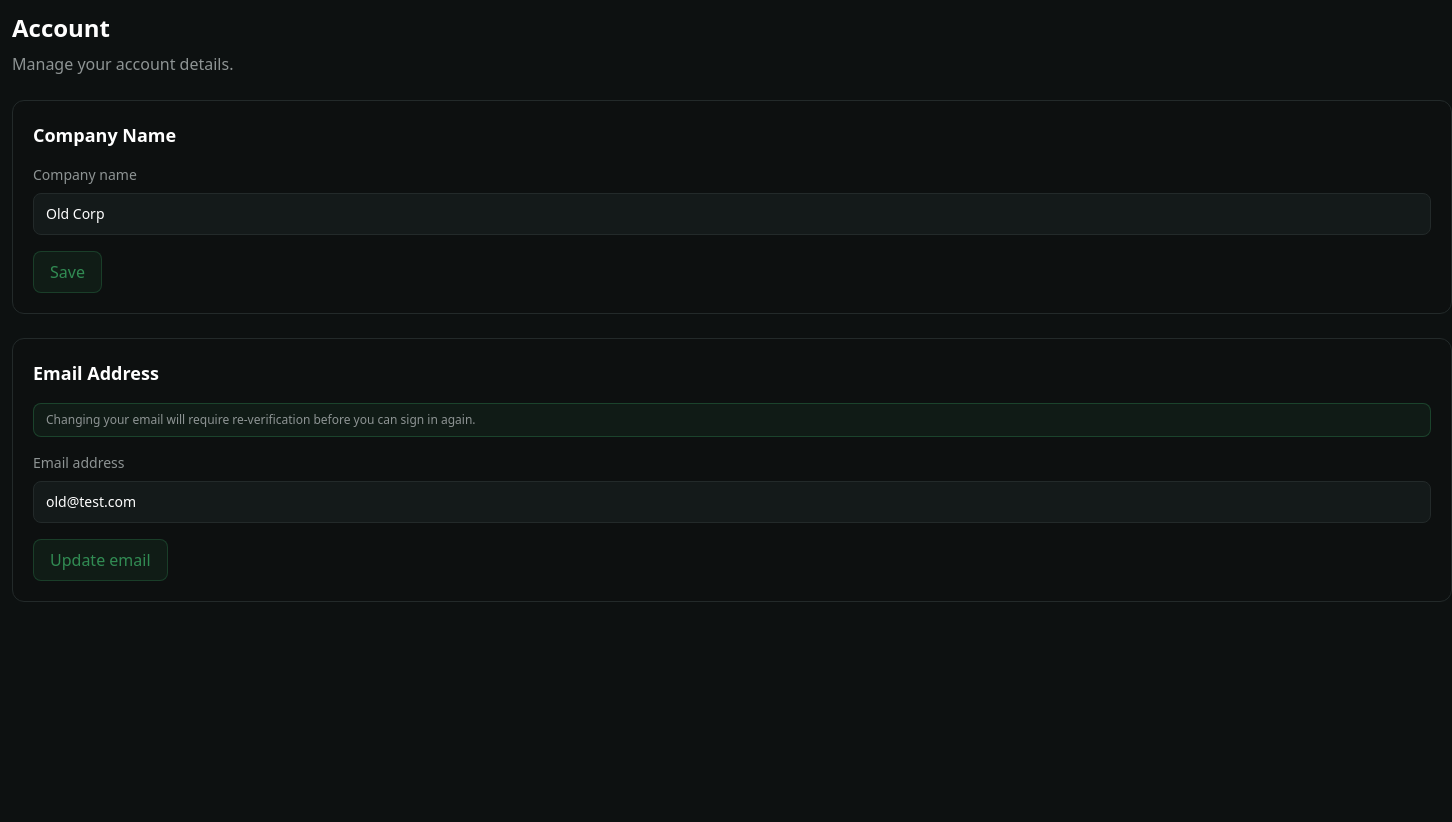
Test: AccountPage › saves company name on submit
The width and height of the screenshot is (1452, 822).
Replace the text in the field showing "Old Corp" with "New Corp": (732, 214) top-left (33, 193), bottom-right (1431, 235)
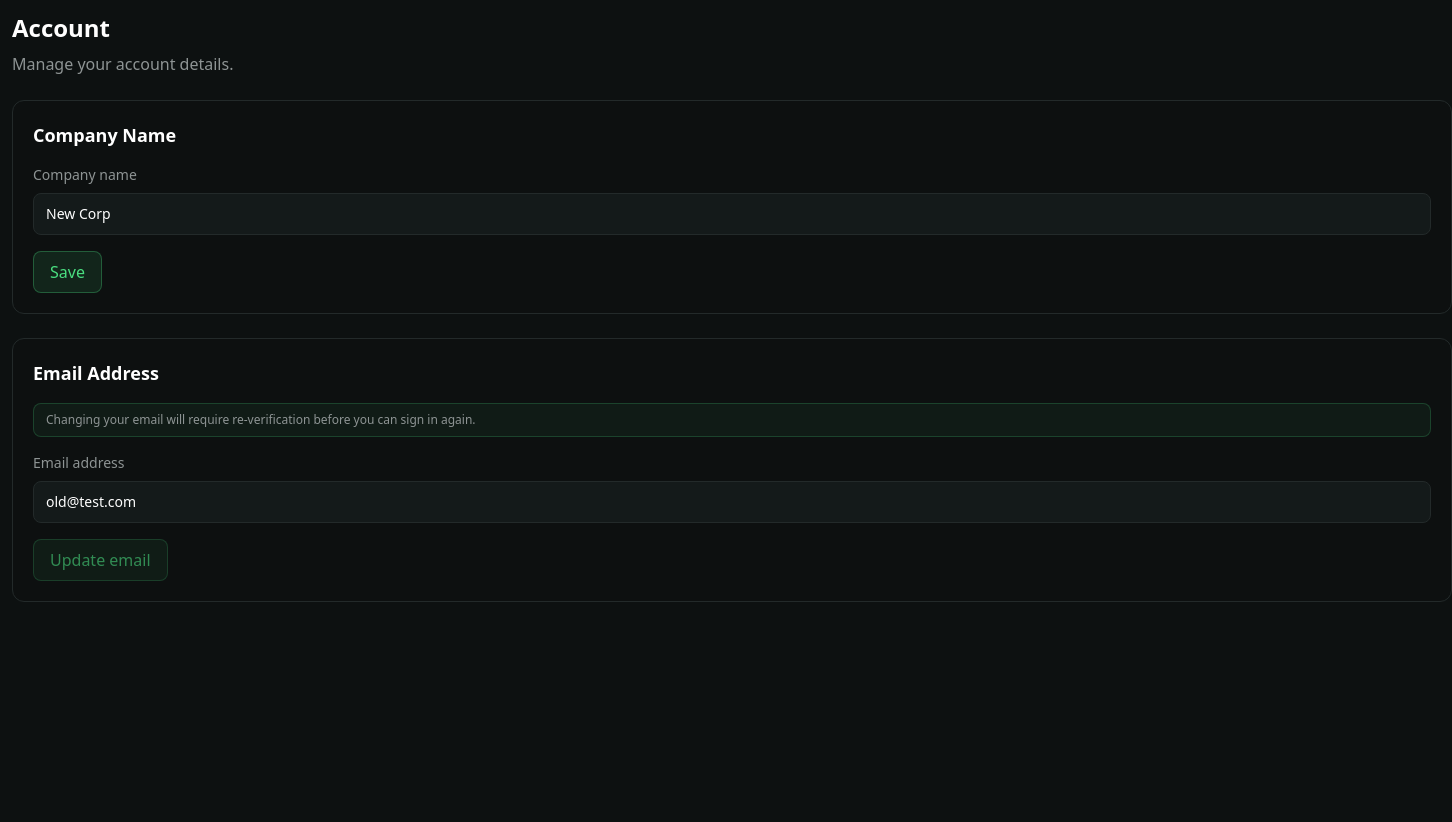
Click the button "Save": (67, 272) top-left (33, 251), bottom-right (102, 293)
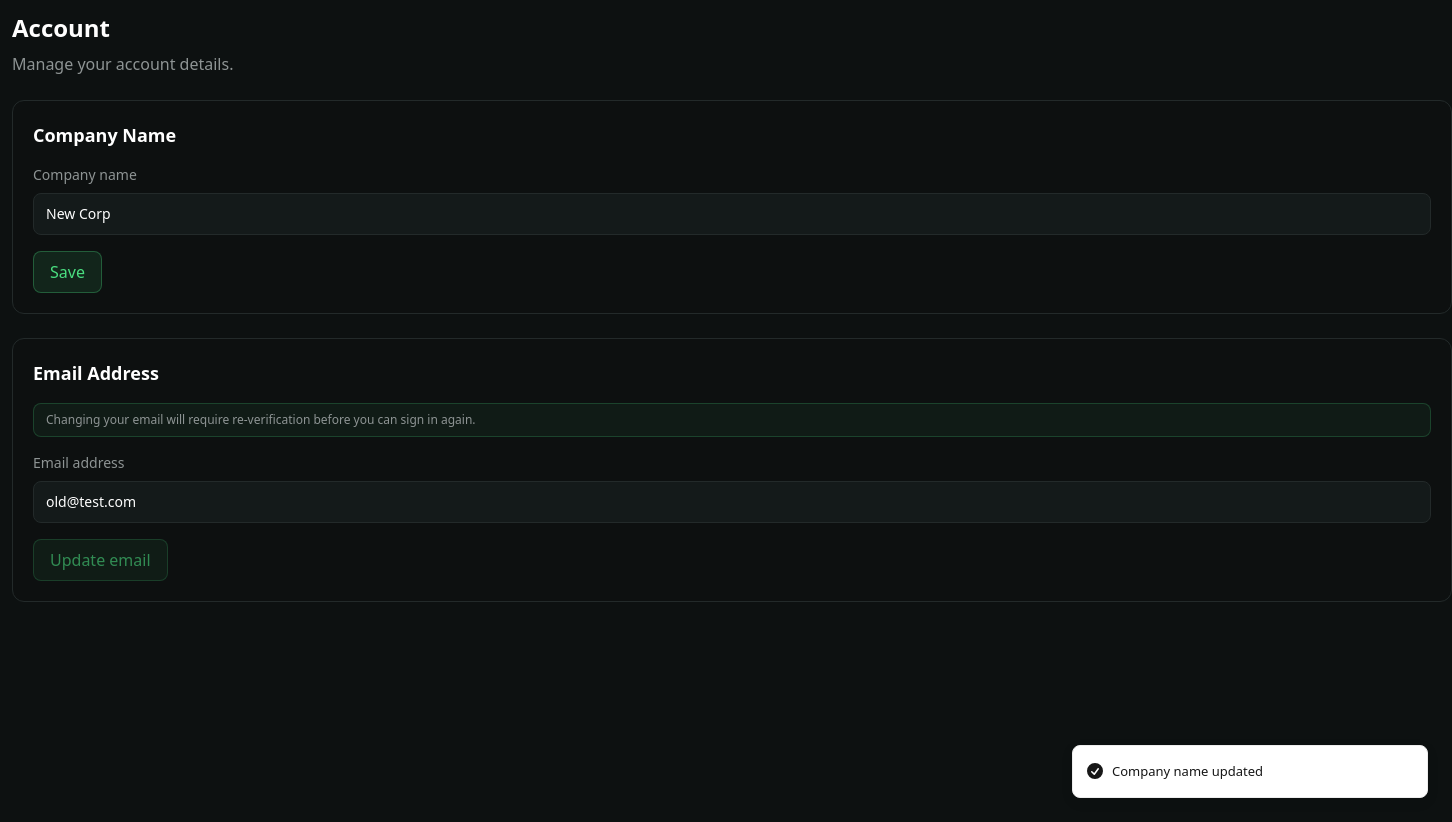
Check: the text "Company name updated" is shown, box top-left (1112, 762), bottom-right (1263, 781)
